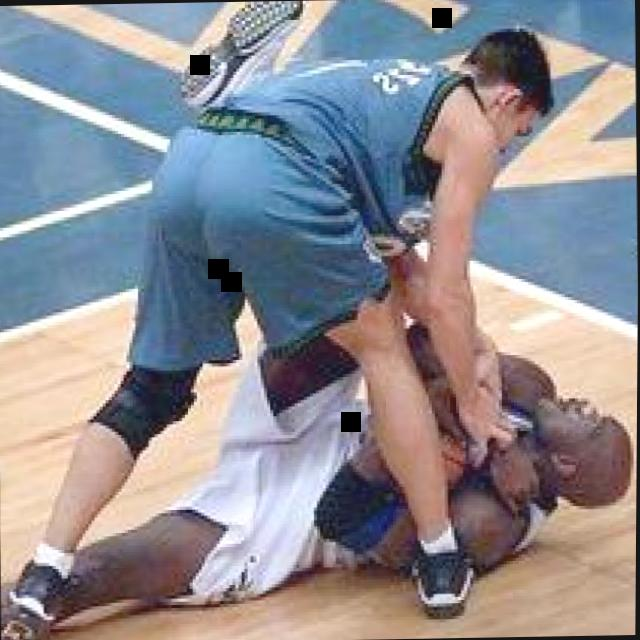Fall-Detected: (0, 292, 638, 636)
